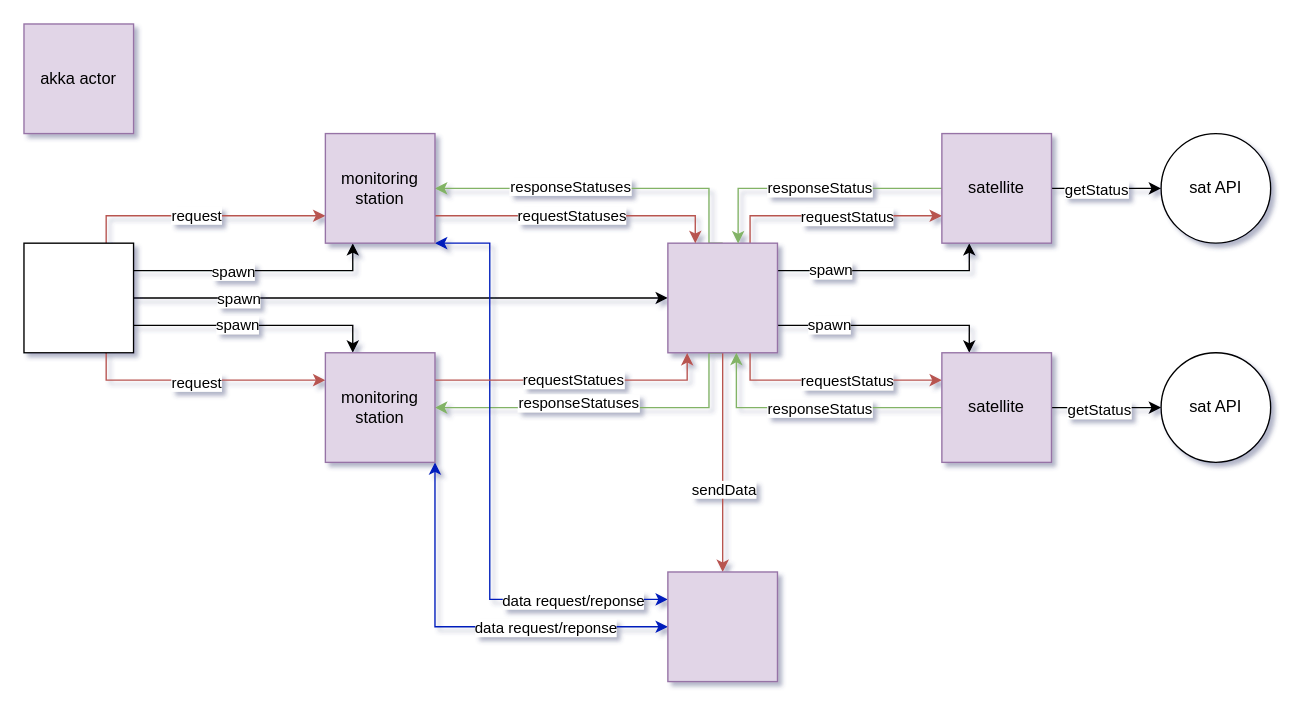
This 1303x714 diagram has some shape labels left out. Here are the shapes that lost their labels. From the top down, the centre of each, then its label:
At [78,297]: "main".
At [722,297]: "dispatcher".
At [722,626]: "database manager".
